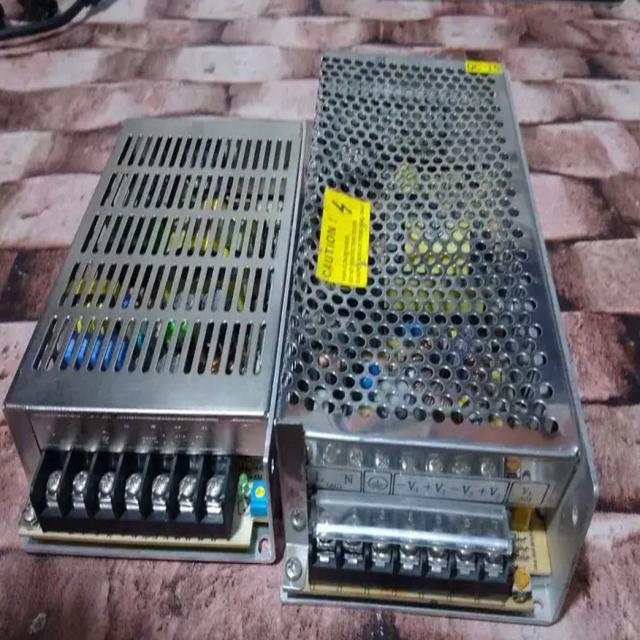electronic: (18, 34, 613, 636)
